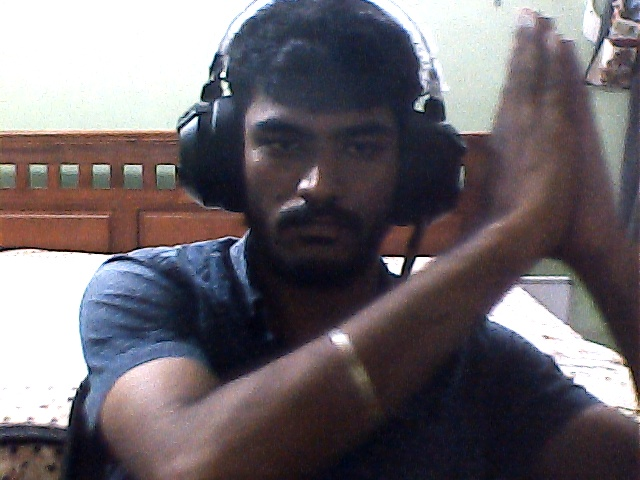Sign: (476, 13, 622, 246)
